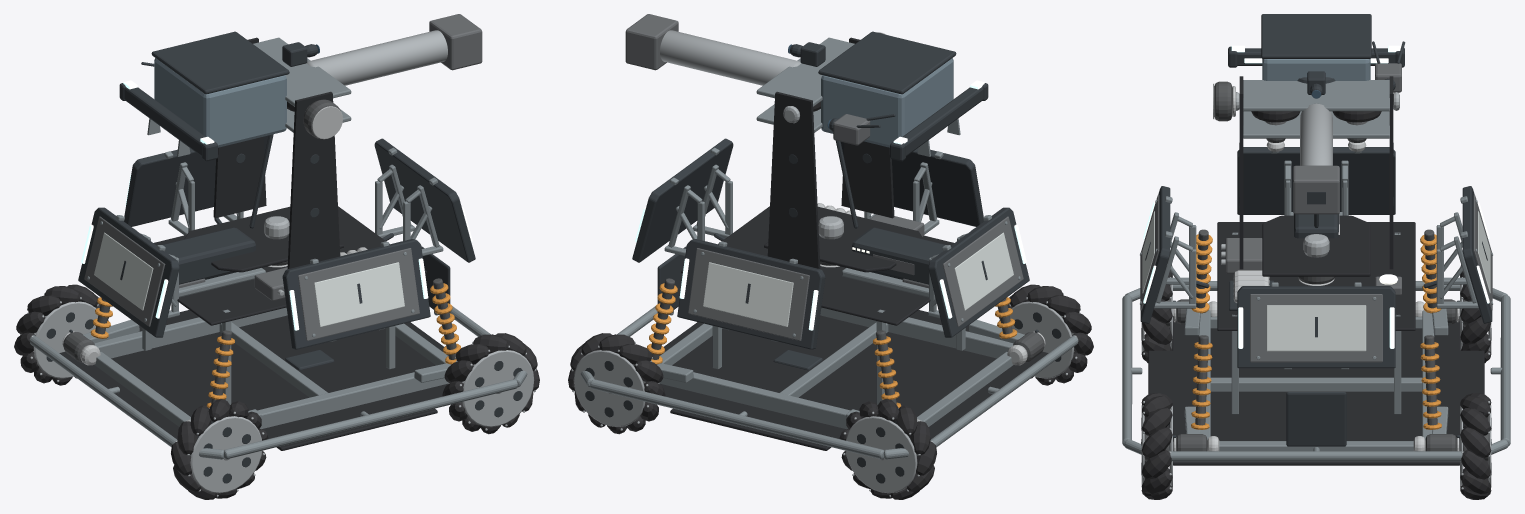
File: robot-1-spec2026v2.glb
The picture shows the model from 3 angles, left to right: view 1: azimuth 30°, elevation 25°; view 2: azimuth 150°, elevation 25°; view 3: azimuth 270°, elevation 25°; orthographic projection.
Visible parts, largest first — view 1: Chassis_CarbonPlate, Chassis_RobotMatteAluminum, Turret_CarbonPlate, MagazineBox, MagazineLid, ArmorModuleBody.001, ArmorModuleBody, Chassis_RobotMatteGraphite, GunPitch_MachinedAlloy, ArmorHitFace.003, ArmorSticker.003, ArmorModuleBody.003 (+19 smaller); view 2: Chassis_CarbonPlate, Chassis_RobotMatteAluminum, Turret_CarbonPlate, MagazineBox, MagazineLid, ArmorModuleBody.003, ArmorModuleBody, Chassis_RobotMatteGraphite, GunPitch_MachinedAlloy, ArmorHitFace.001, ArmorSticker.001, ArmorModuleBody.001 (+20 smaller); view 3: Chassis_CarbonPlate, Chassis_RobotMatteAluminum, Turret_CarbonPlate, ArmorModuleBody.002, GunPitch_RobotMatteAluminum, MagazineLid, ArmorHitFace, ArmorSticker, Chassis_RobotMatteGraphite, ArmorModuleBody, Chassis_MotorHousing, Chassis_SpringSteelOrange (+25 smaller).
Part boxes in pixels (bbox=[...]): Chassis_CarbonPlate: bbox=[59, 206, 448, 450]; Chassis_RobotMatteAluminum: bbox=[29, 268, 527, 459]; Turret_CarbonPlate: bbox=[184, 37, 343, 272]; MagazineBox: bbox=[154, 58, 286, 147]; MagazineLid: bbox=[151, 31, 289, 94]; ArmorModuleBody.001: bbox=[124, 135, 268, 226]; ArmorModuleBody: bbox=[374, 138, 475, 262]; Chassis_RobotMatteGraphite: bbox=[69, 227, 450, 370]; GunPitch_MachinedAlloy: bbox=[307, 30, 447, 85]; ArmorHitFace.003: bbox=[298, 248, 419, 340]; ArmorSticker.003: bbox=[314, 262, 404, 326]; ArmorModuleBody.003: bbox=[282, 239, 430, 349]; Chassis_CarbonPlate: bbox=[659, 206, 1048, 450]; Chassis_RobotMatteAluminum: bbox=[580, 268, 1078, 459]; Turret_CarbonPlate: bbox=[764, 37, 923, 272]; MagazineBox: bbox=[821, 58, 953, 147]; MagazineLid: bbox=[818, 31, 956, 94]; ArmorModuleBody.003: bbox=[840, 142, 983, 226]; ArmorModuleBody: bbox=[632, 138, 733, 262]; Chassis_RobotMatteGraphite: bbox=[657, 227, 1038, 370]; GunPitch_MachinedAlloy: bbox=[660, 30, 800, 85]; ArmorHitFace.001: bbox=[688, 248, 809, 340]; ArmorSticker.001: bbox=[703, 262, 793, 326]; ArmorModuleBody.001: bbox=[677, 239, 825, 349]; Chassis_CarbonPlate: bbox=[1148, 222, 1484, 465]; Chassis_RobotMatteAluminum: bbox=[1122, 212, 1510, 461]; Turret_CarbonPlate: bbox=[1239, 76, 1393, 276]; ArmorModuleBody.002: bbox=[1237, 147, 1395, 214]; GunPitch_RobotMatteAluminum: bbox=[1243, 80, 1389, 138]; MagazineLid: bbox=[1261, 14, 1371, 58]; ArmorHitFace: bbox=[1250, 294, 1382, 362]; ArmorSticker: bbox=[1266, 305, 1366, 351]; Chassis_RobotMatteGraphite: bbox=[1173, 214, 1459, 446]; ArmorModuleBody: bbox=[1237, 286, 1395, 368]; Chassis_MotorHousing: bbox=[1176, 229, 1456, 451]; Chassis_SpringSteelOrange: bbox=[1191, 234, 1441, 429].
Bounding box in the file's own units: 0.7356 × 0.672 × 0.6465.
